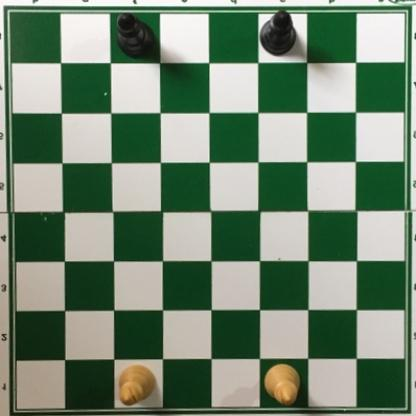black-bishop: (115, 12, 156, 59), (259, 9, 297, 58)
white-bishop: (263, 362, 302, 408), (120, 363, 158, 408)
